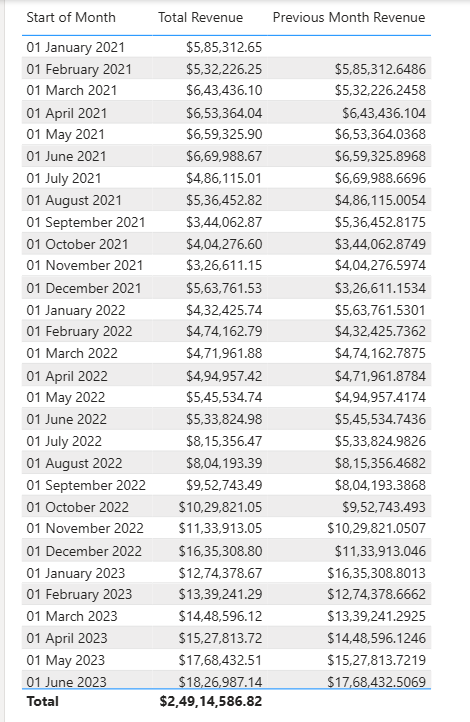

The dashboard page shown, as its layout file describes it:
{"tool":"powerbi","page":{"name":"Prev Month Revenue","canvas":[1280,720],"ordinal":1},"visuals":[{"type":"tableEx","fields":{"Values":["dCalendar.Start of Month","_Measures.Total Revenue","_Measures.Previous Month Revenue"]},"box":[10.1,0,615.1,686.1],"z":0}]}

Visuals, with their boxes on the page's 1280x720 design canvas (x1, y1, x2, y2). These are canvas units, not pixel positions in the 470x722 screenshot, which may show the page scaled, cropped or inside an application window:
tableEx - dCalendar.Start of Month x _Measures.Total Revenue: 10, 0, 625, 686
